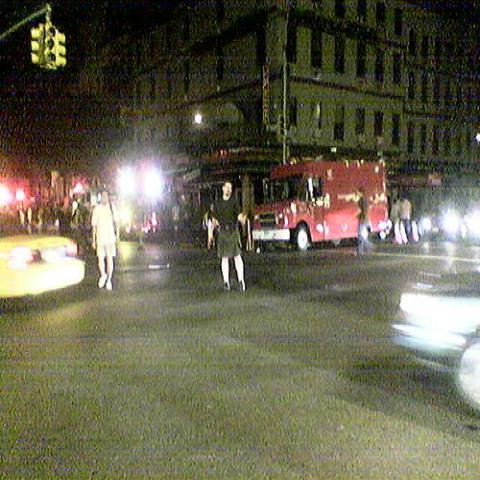car: (390, 272, 478, 419), (0, 207, 86, 299), (443, 204, 479, 242)
truck: (251, 161, 392, 255)
